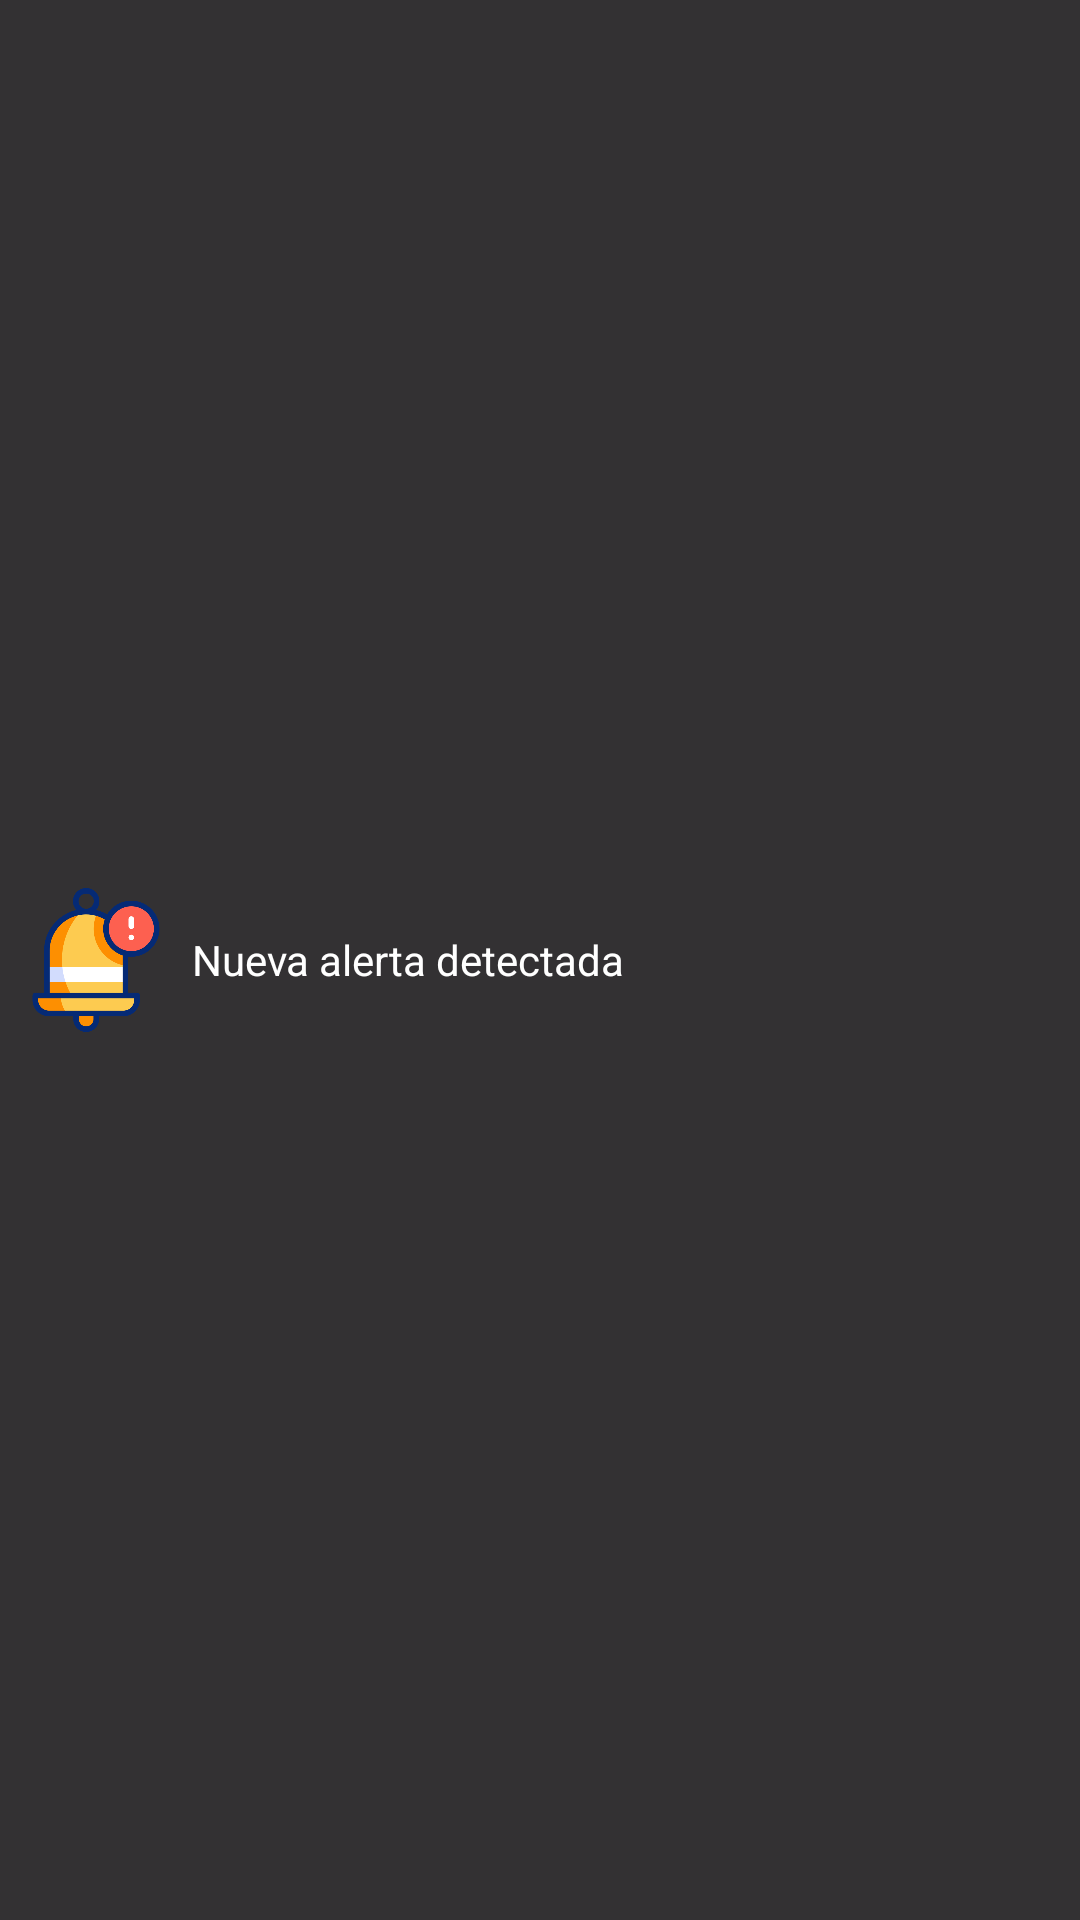

Where icons sit on this 1080w x 1920h app screen, as box(x1, y1, x2, y2):
Notificación de nueva alerta: box(32, 888, 160, 1032)
